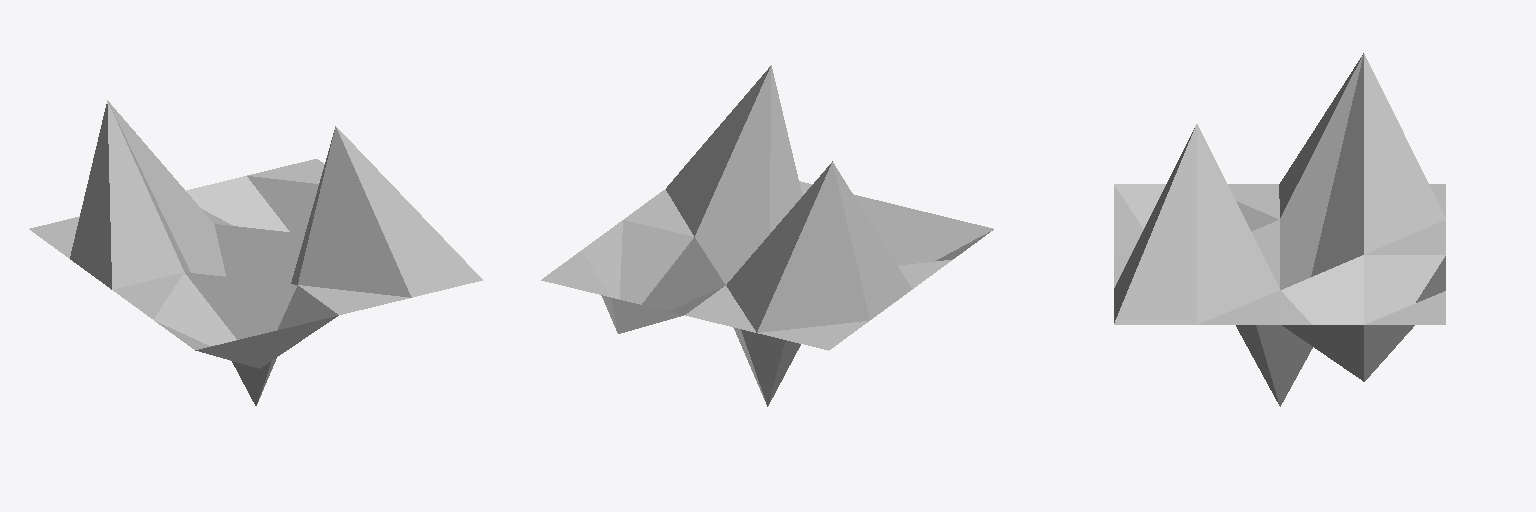
File: Wavy5x5.obj
3 views of the same model, side by side, from view 1: azimuth 30°, elevation 25°; view 2: azimuth 150°, elevation 25°; view 3: azimuth 270°, elevation 25° (orthographic).
Parts seen in each view (by area): view 1: Plane; view 2: Plane; view 3: Plane.
Boxes of the visible parts, x1,y1,x2,y2 form: Plane: [29, 100, 482, 405]; Plane: [541, 65, 993, 406]; Plane: [1114, 53, 1445, 406].
Bounding box in the file's own units: 4 × 4.01 × 3.99.